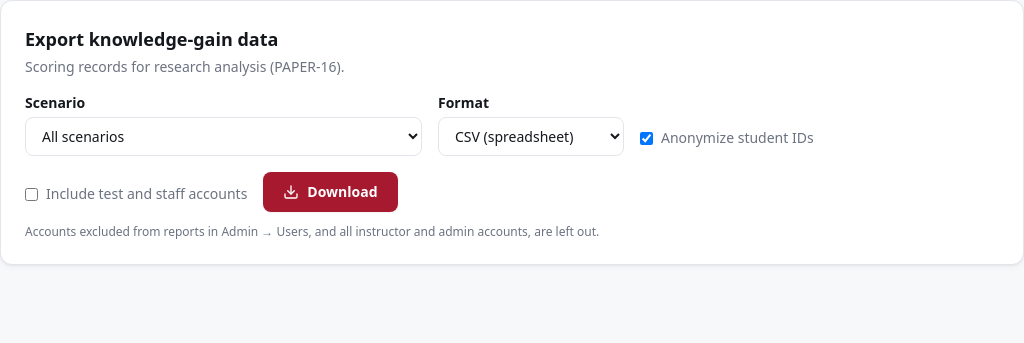
Scenario: admin card can turn anonymization off and warns about personal data
Click the checkbox labelled "Anonymize student IDs" at point(646, 138), box [640,132,653,144]
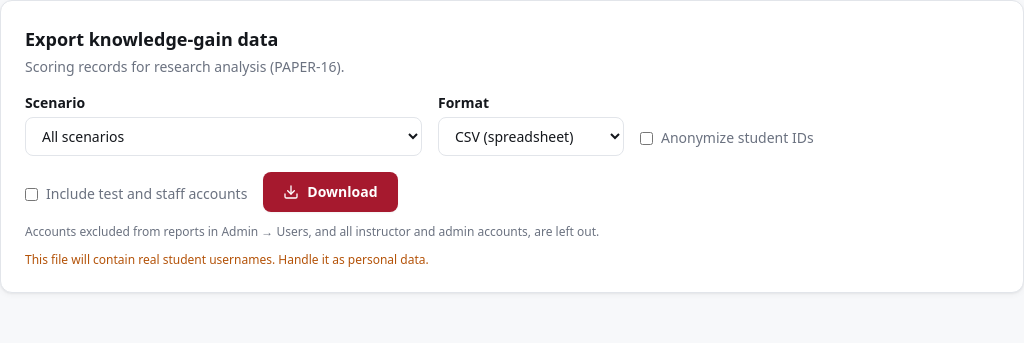
Result: the text "real student usernames" is shown at [25,251,429,268]
Click the button "Download" at point(330, 192), box [263,172,398,212]
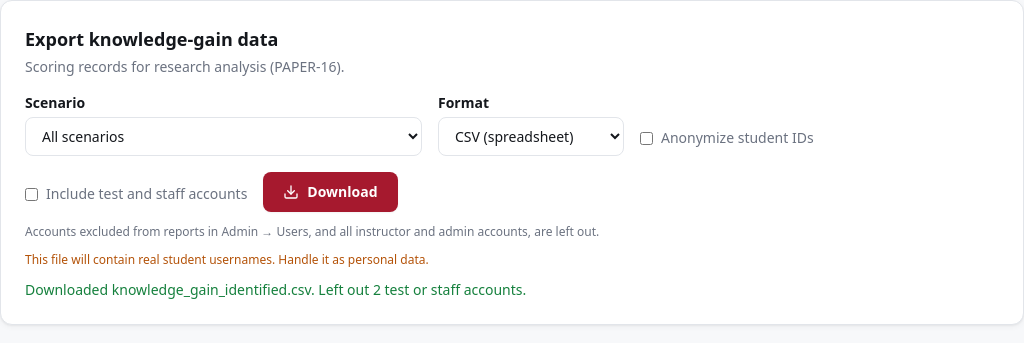
Result: the message shows "knowledge_gain_identified.csv" at [25,280,526,299]
